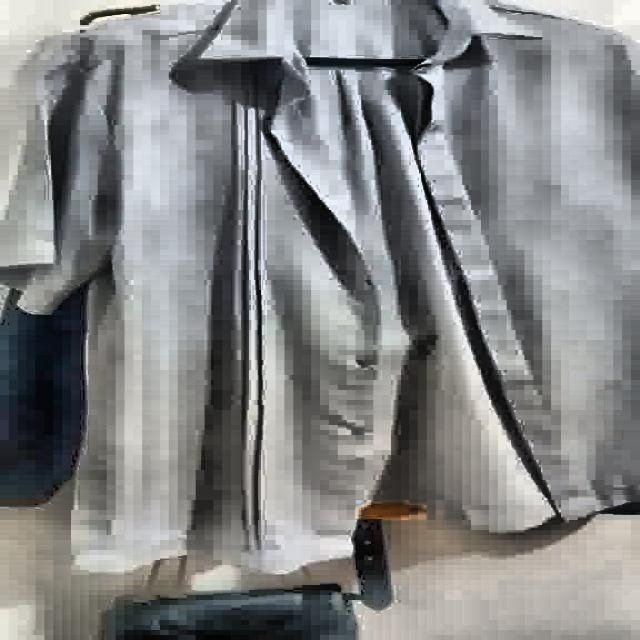clothes: (6, 0, 634, 590)
